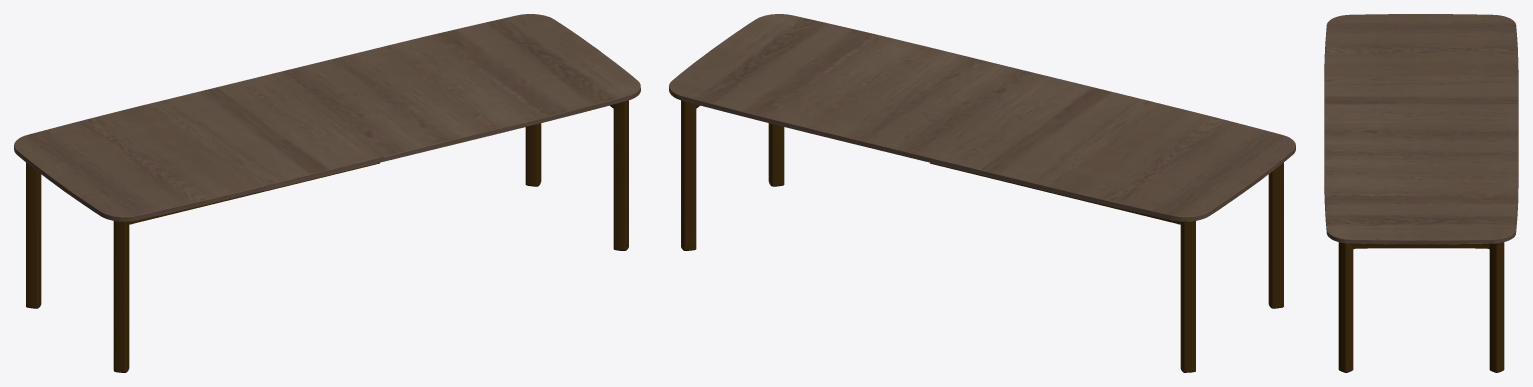
The picture shows the model from 3 angles, left to right: view 1: azimuth 30°, elevation 25°; view 2: azimuth 150°, elevation 25°; view 3: azimuth 270°, elevation 25°; orthographic projection. The views are drawn at different scales.
Parts seen in each view (by area): view 1: mesh0; view 2: mesh0; view 3: mesh0.
Boxes of the visible parts, x1,y1,x2,y2 form: mesh0: (14,14,640,372); mesh0: (669,14,1295,372); mesh0: (1324,14,1518,372).
Size of the model in its own units: 2.62 by 0.7481 by 0.9502.
Materials: 2 (1 with a texture image).
